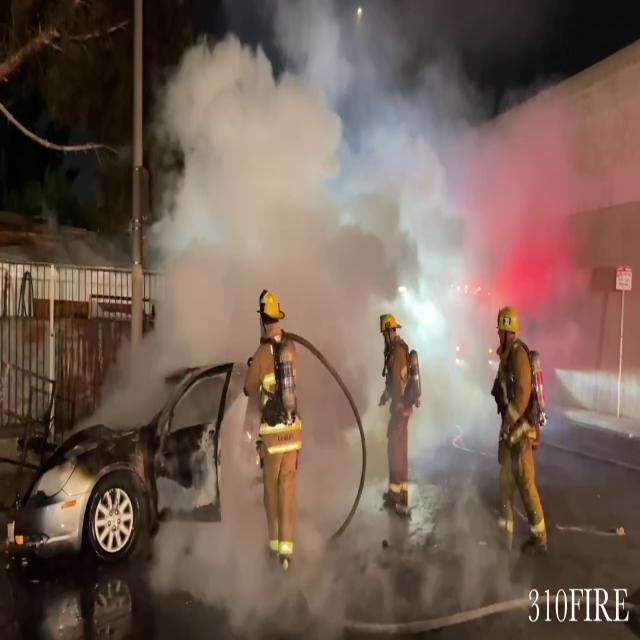Smoke: (82, 2, 602, 616)
